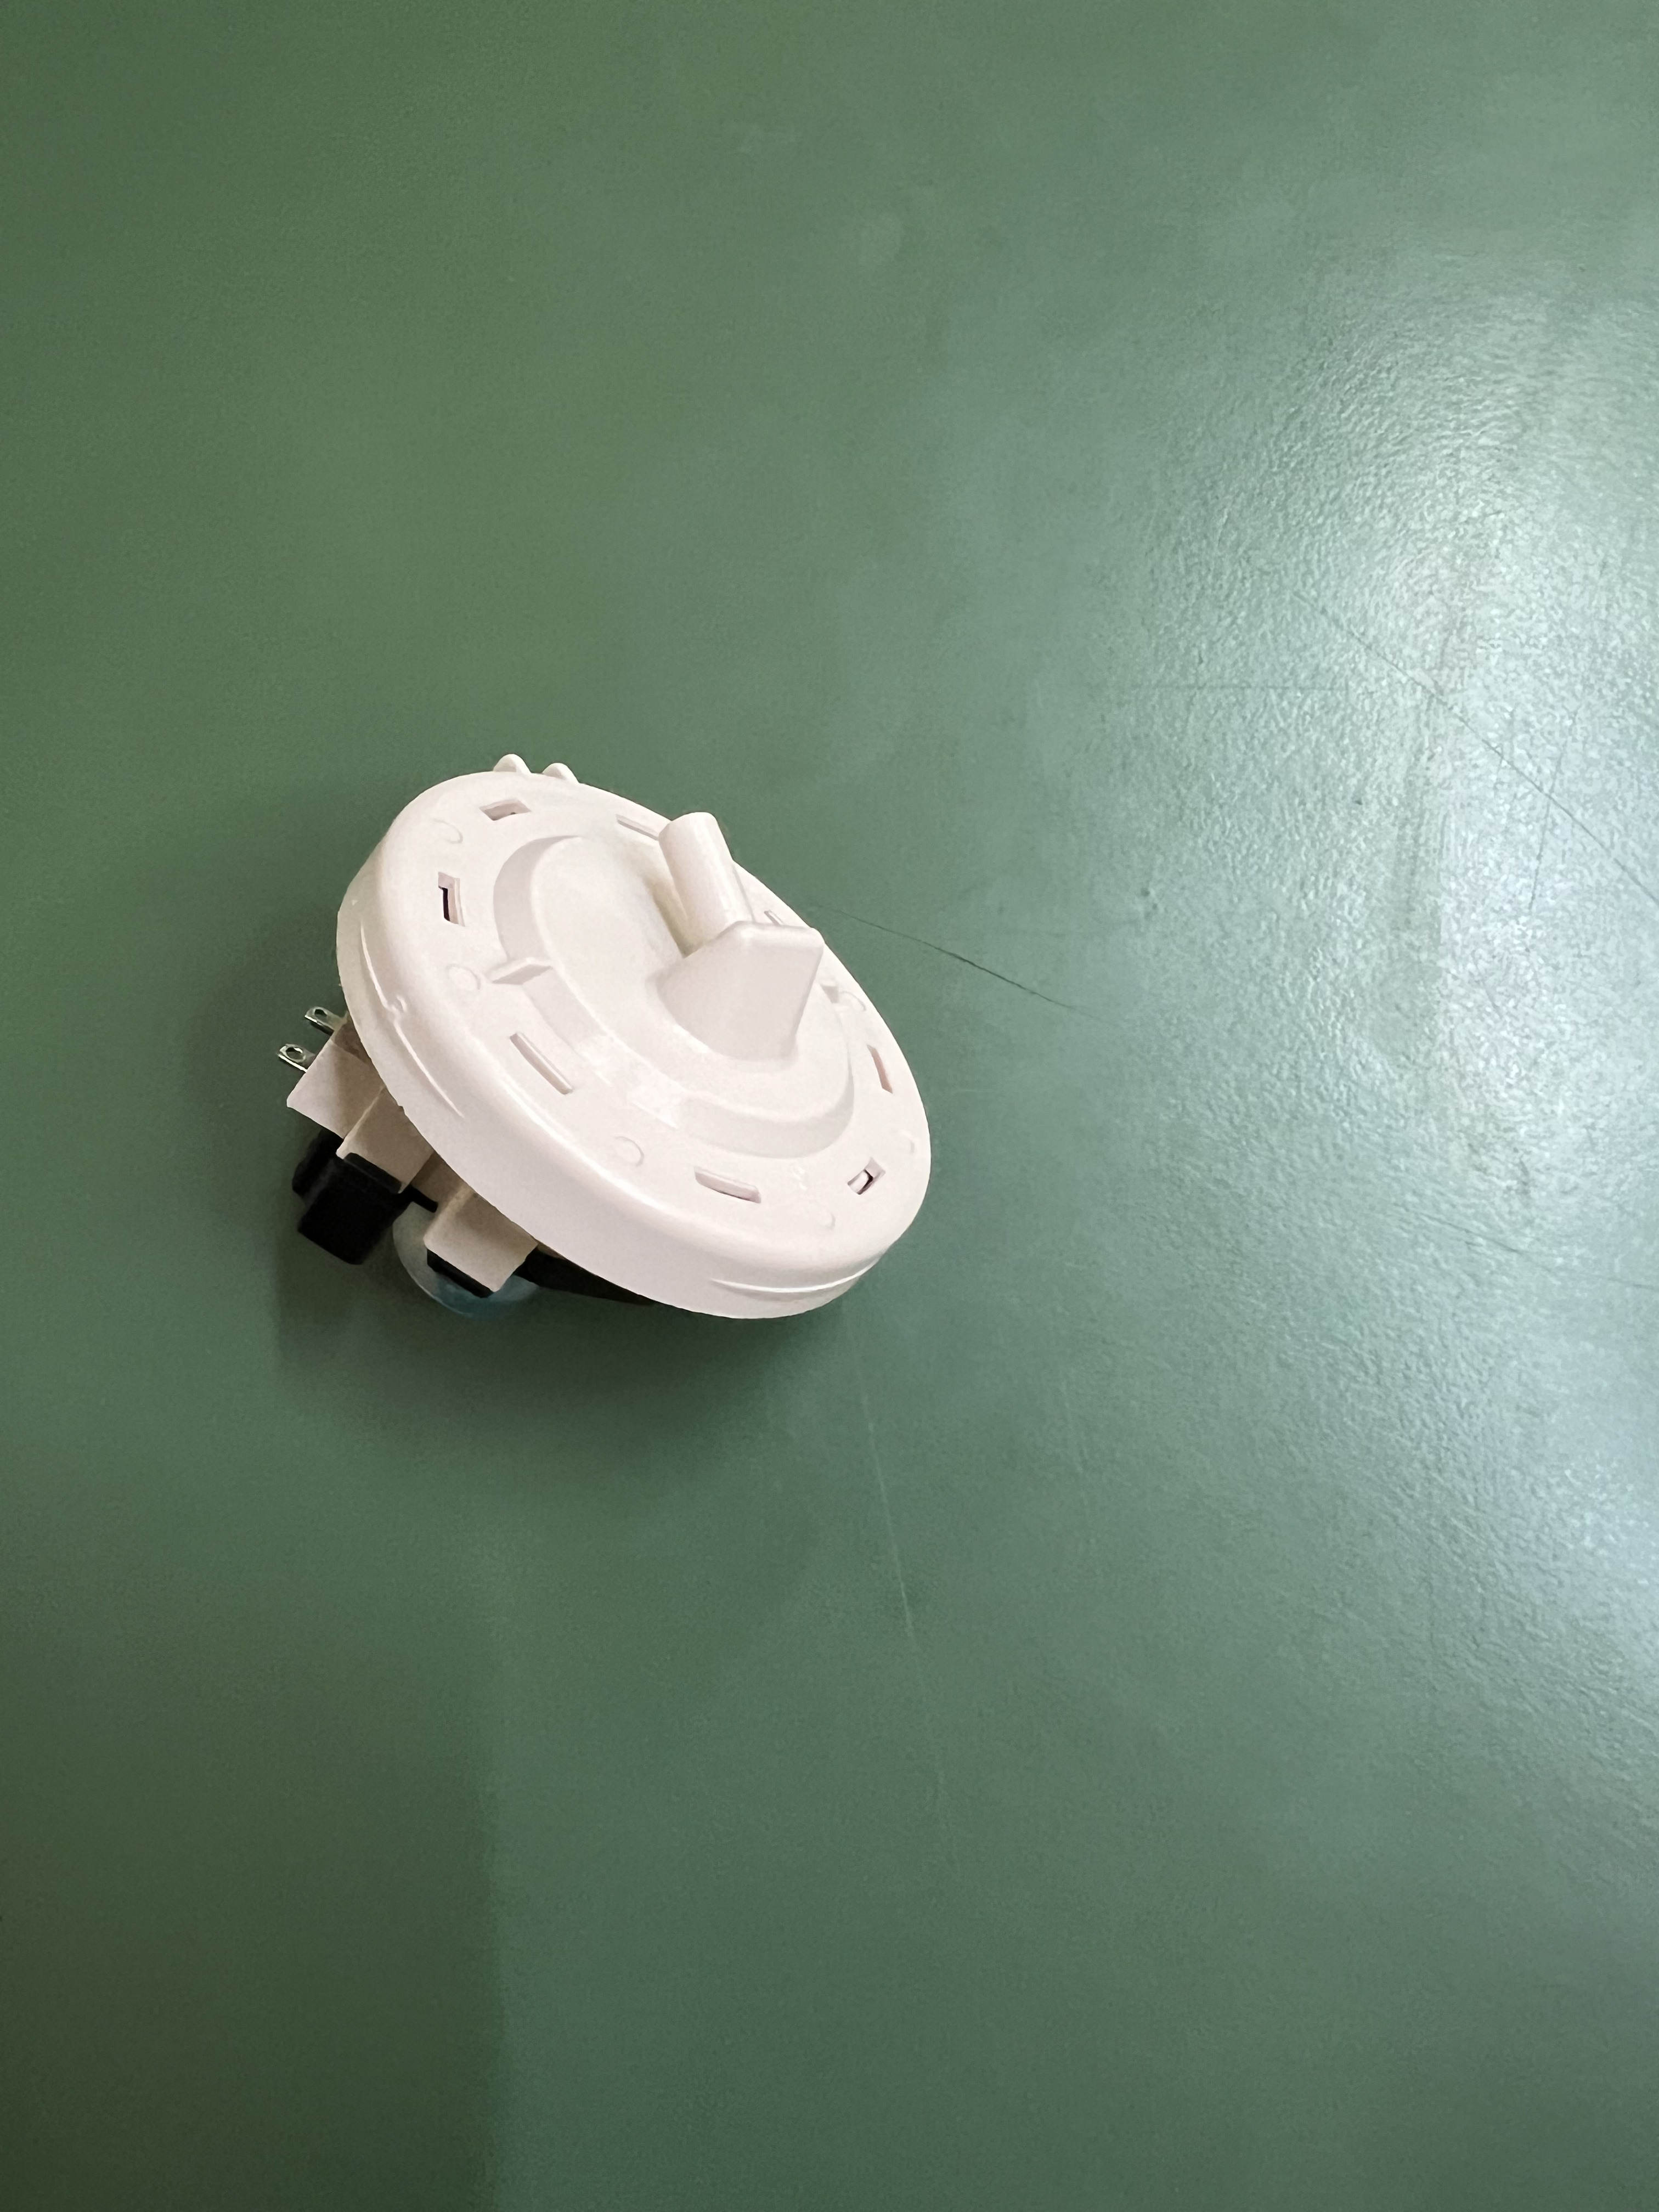pressure_sensor: (291, 768, 997, 1374)
